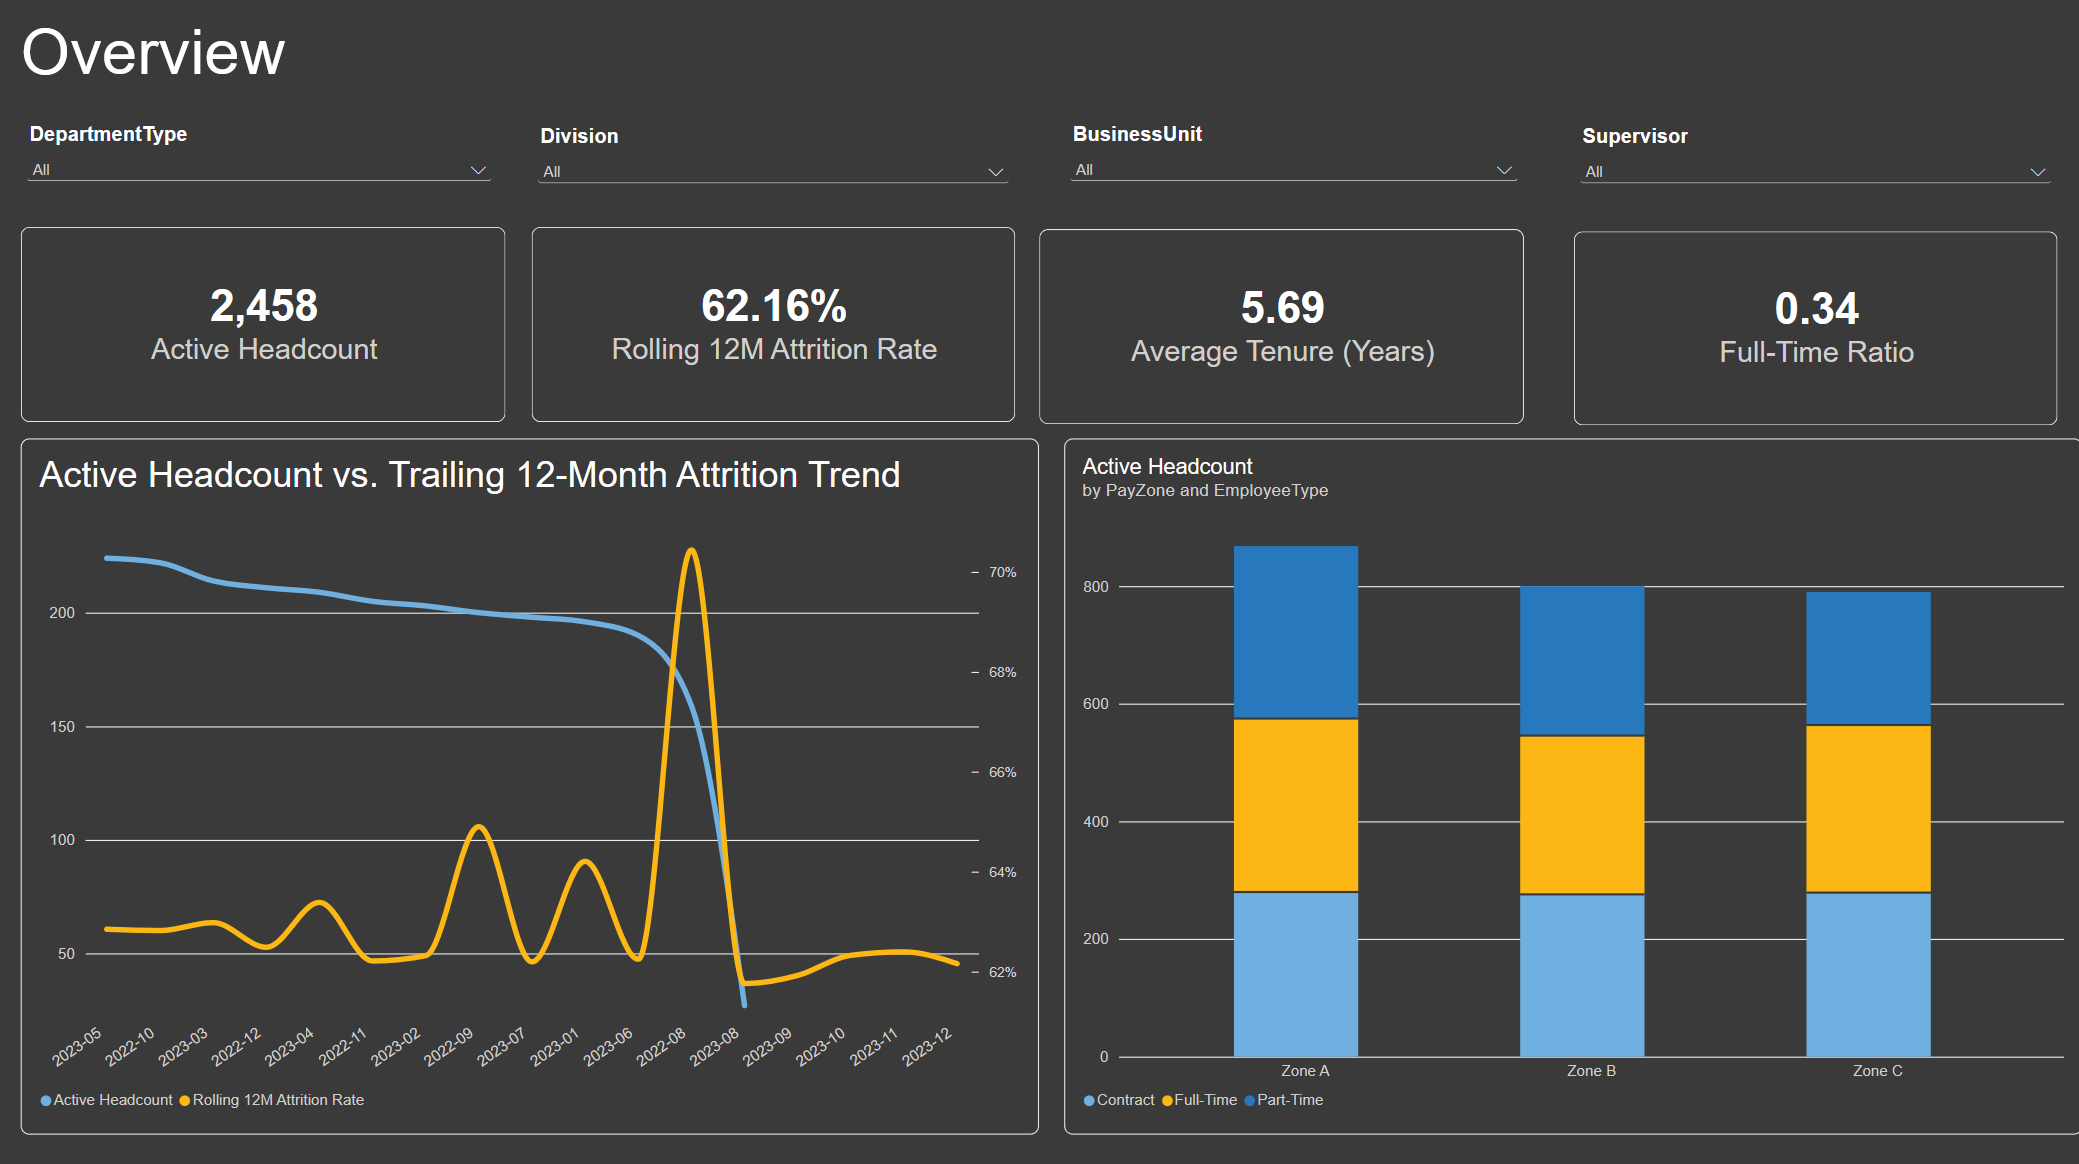

What the dashboard file says about the page in this screenshot:
{"tool":"powerbi","page":{"name":"Overview","canvas":[1920,1080],"ordinal":0},"visuals":[{"type":"cardVisual","fields":{"Data":["Measures_.Active Headcount"]},"box":[20.4,211.1,446.4,179.7],"z":0},{"type":"cardVisual","fields":{"Data":["Measures_.Rolling 12M Attrition Rate"]},"box":[490.8,211.1,446.4,179.7],"z":1000},{"type":"cardVisual","fields":{"Data":["Measures_.Average Tenure (Years)"]},"box":[959.4,213,446.4,179.7],"z":2000},{"type":"cardVisual","fields":{"Data":["Measures_.Full-Time Ratio"]},"box":[1452.1,214.8,446.4,179.7],"z":3000},{"type":"lineChart","title":"Active Headcount vs. Trailing 12-Month Attrition Trend","fields":{"Category":["dim_calendar.Year Month"],"Y":["Measures_.Active Headcount"],"Y2":["Measures_.Rolling 12M Attrition Rate"]},"box":[20.4,405.6,939,642.7],"z":4000},{"type":"columnChart","fields":{"Category":["dim_employee.PayZone"],"Series":["dim_employee.EmployeeType"],"Y":["Measures_.Active Headcount"]},"box":[981.6,405.6,939,642.7],"z":5000},{"type":"slicer","fields":{"Values":["dim_employee.DepartmentType"]},"box":[20.2,115.1,440.3,78.8],"z":6000},{"type":"slicer","fields":{"Values":["dim_employee.Division"]},"box":[490.8,117.1,446.3,78.8],"z":7000},{"type":"slicer","fields":{"Values":["dim_employee.Supervisor"]},"box":[1452.1,117.1,446.3,76.7],"z":8000},{"type":"slicer","fields":{"Values":["dim_employee.BusinessUnit"]},"box":[981.6,115.1,424.1,78.8],"z":9000},{"type":"textbox","box":[20.2,0,1062.3,86.8],"z":10000}]}

Visuals, with their boxes in screenshot pixels (x1, y1, x2, y2), scaled from the page's 1920x1080 canvas onto the 2079x1164 screenshot:
cardVisual - Measures_.Active Headcount: detection(22, 228, 505, 421)
cardVisual - Measures_.Rolling 12M Attrition Rate: detection(531, 228, 1015, 421)
cardVisual - Measures_.Average Tenure (Years): detection(1039, 230, 1522, 423)
cardVisual - Measures_.Full-Time Ratio: detection(1572, 232, 2056, 425)
"Active Headcount vs. Trailing 12-Month Attrition Trend" lineChart: detection(22, 437, 1039, 1130)
columnChart - dim_employee.PayZone x dim_employee.EmployeeType: detection(1063, 437, 2078, 1130)
slicer - dim_employee.DepartmentType: detection(22, 124, 499, 209)
slicer - dim_employee.Division: detection(531, 126, 1015, 211)
slicer - dim_employee.Supervisor: detection(1572, 126, 2056, 209)
slicer - dim_employee.BusinessUnit: detection(1063, 124, 1522, 209)
textbox: detection(22, 0, 1172, 94)
